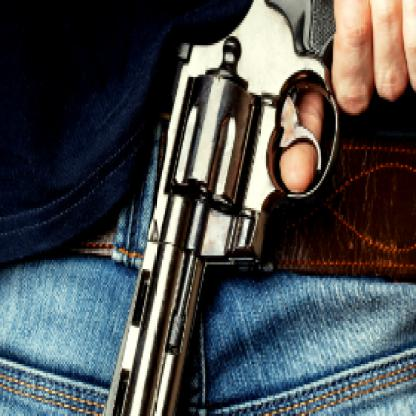gun: (83, 0, 415, 414)
